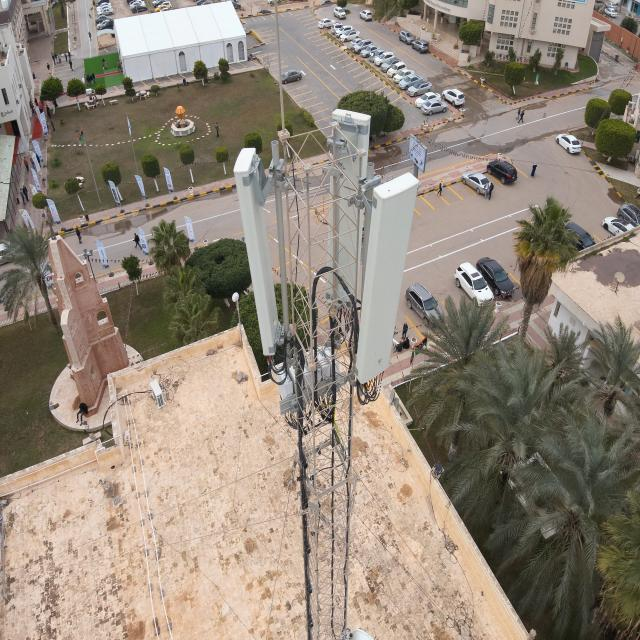antenna: (346, 167, 424, 389), (233, 138, 289, 362), (323, 107, 374, 300)
lighnig-rad: (271, 0, 290, 137)
microware-dish: (347, 626, 375, 640)
